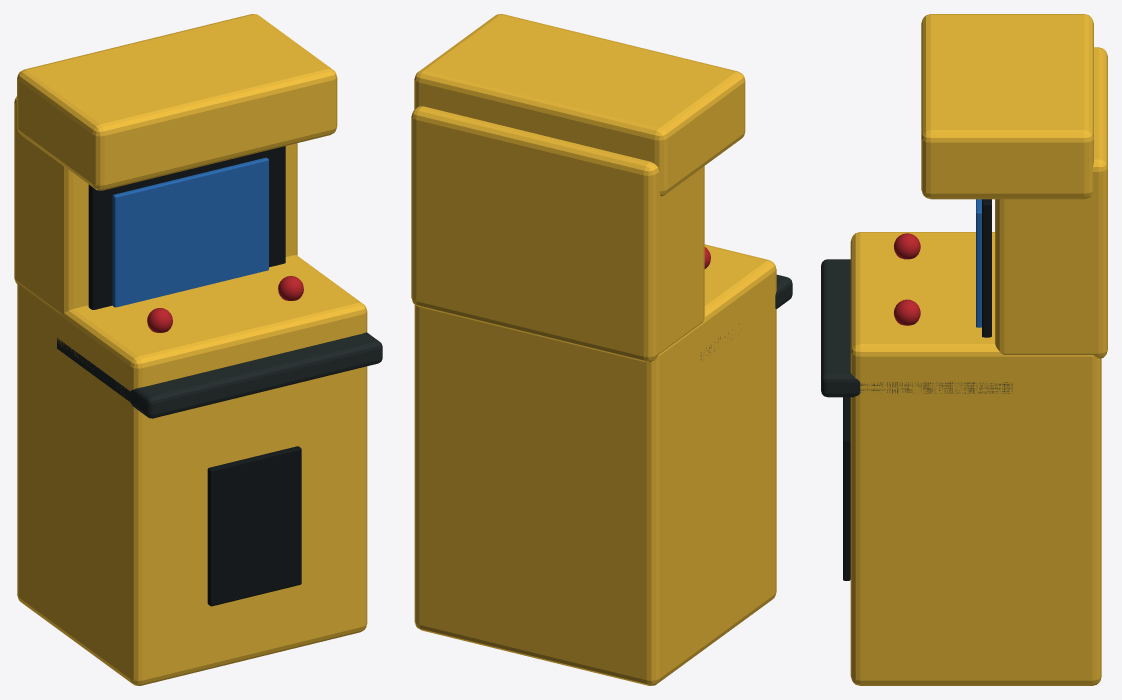
The model's file is best.glb.
The picture shows the model from 3 angles, left to right: view 1: azimuth 30°, elevation 25°; view 2: azimuth 150°, elevation 25°; view 3: azimuth 270°, elevation 25°; orthographic projection. The views are drawn at different scales.
Parts seen in each view (by area): view 1: Arcade cabinet, Coin door, Game screen, Control deck, Joystick ball; view 2: Arcade cabinet; view 3: Arcade cabinet, Control deck, Coin door, Joystick ball, Game screen.
Boxes of the visible parts, x1,y1,x2,y2 form: Arcade cabinet: [14, 14, 367, 685]; Coin door: [88, 146, 301, 606]; Game screen: [112, 157, 268, 307]; Control deck: [57, 332, 382, 418]; Joystick ball: [147, 276, 303, 332]; Arcade cabinet: [411, 14, 776, 685]; Arcade cabinet: [850, 14, 1107, 685]; Control deck: [821, 259, 1012, 397]; Coin door: [843, 199, 991, 580]; Joystick ball: [894, 233, 920, 325]; Game screen: [976, 199, 981, 327].
Bounding box in the file's own units: 1.03 × 2.18 × 1.02.
